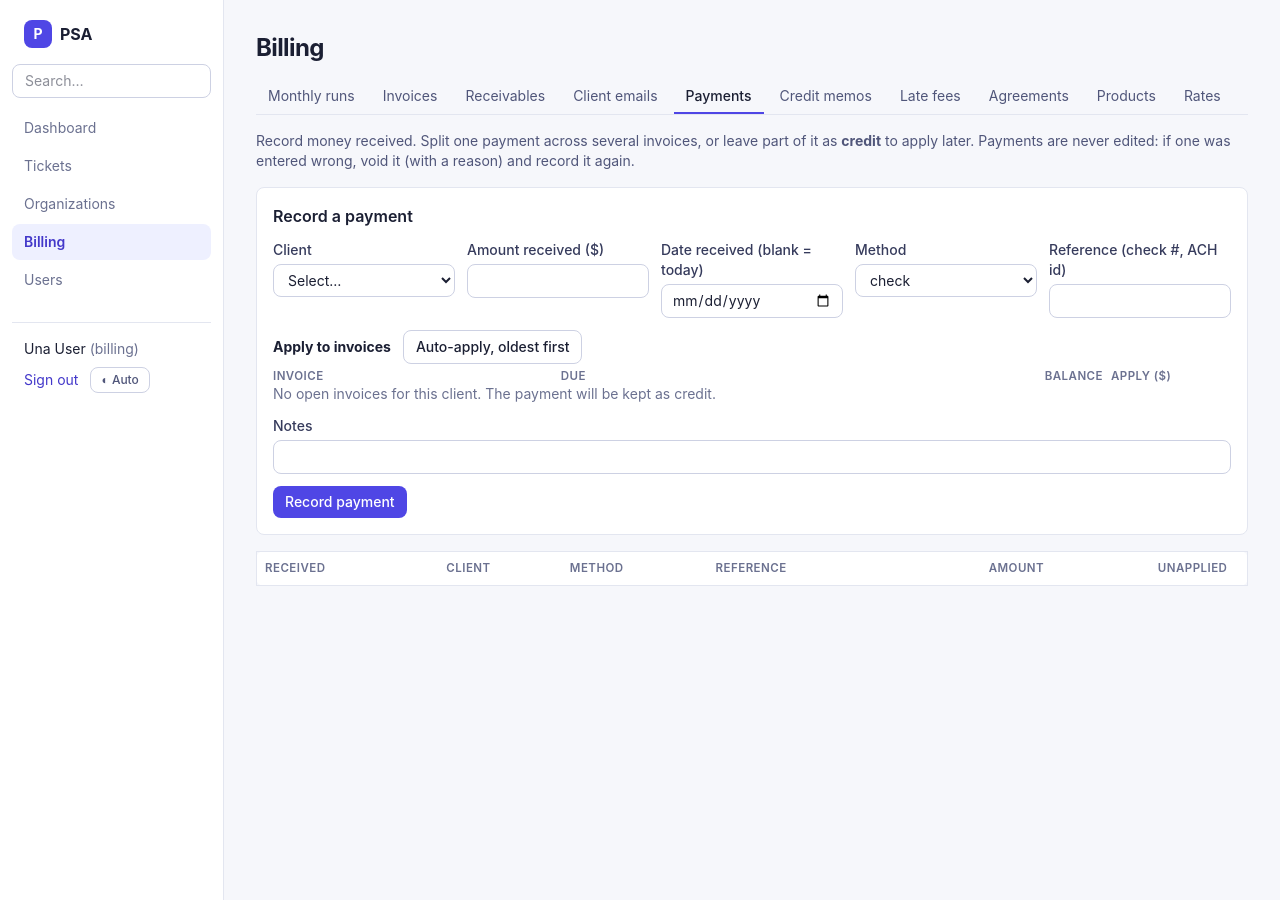
Test: record payment › warns when more is applied than was received
This screenshot has width=1280, height=900.
In the field labelled "Amount received ($)": (558, 281) [467,264,649,298], type "50.00"
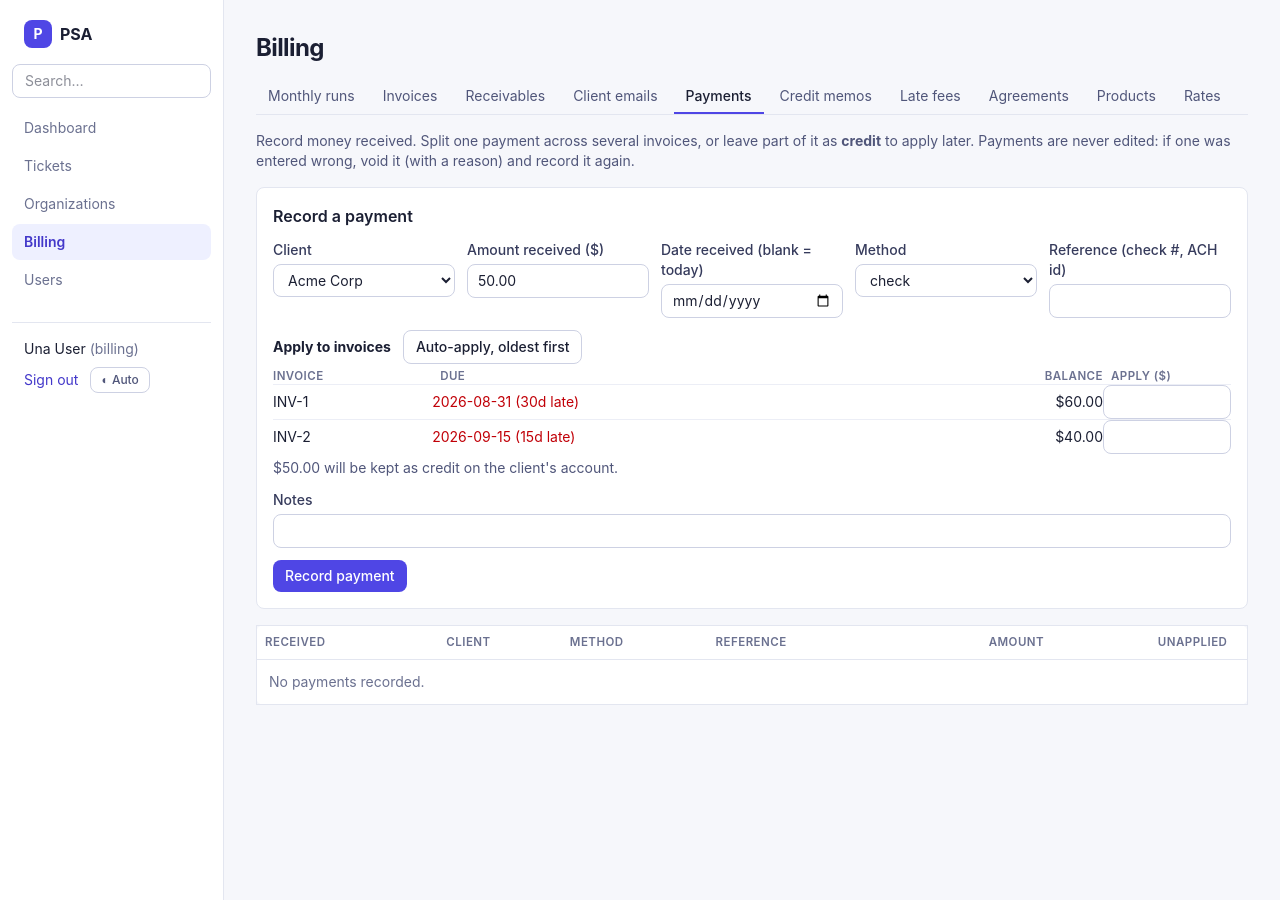
Result: the text "INV-1" is shown at [273,385,432,420]
In the field named "Apply to INV-1": (1167, 402) [1103,385,1231,419], type "60.00"
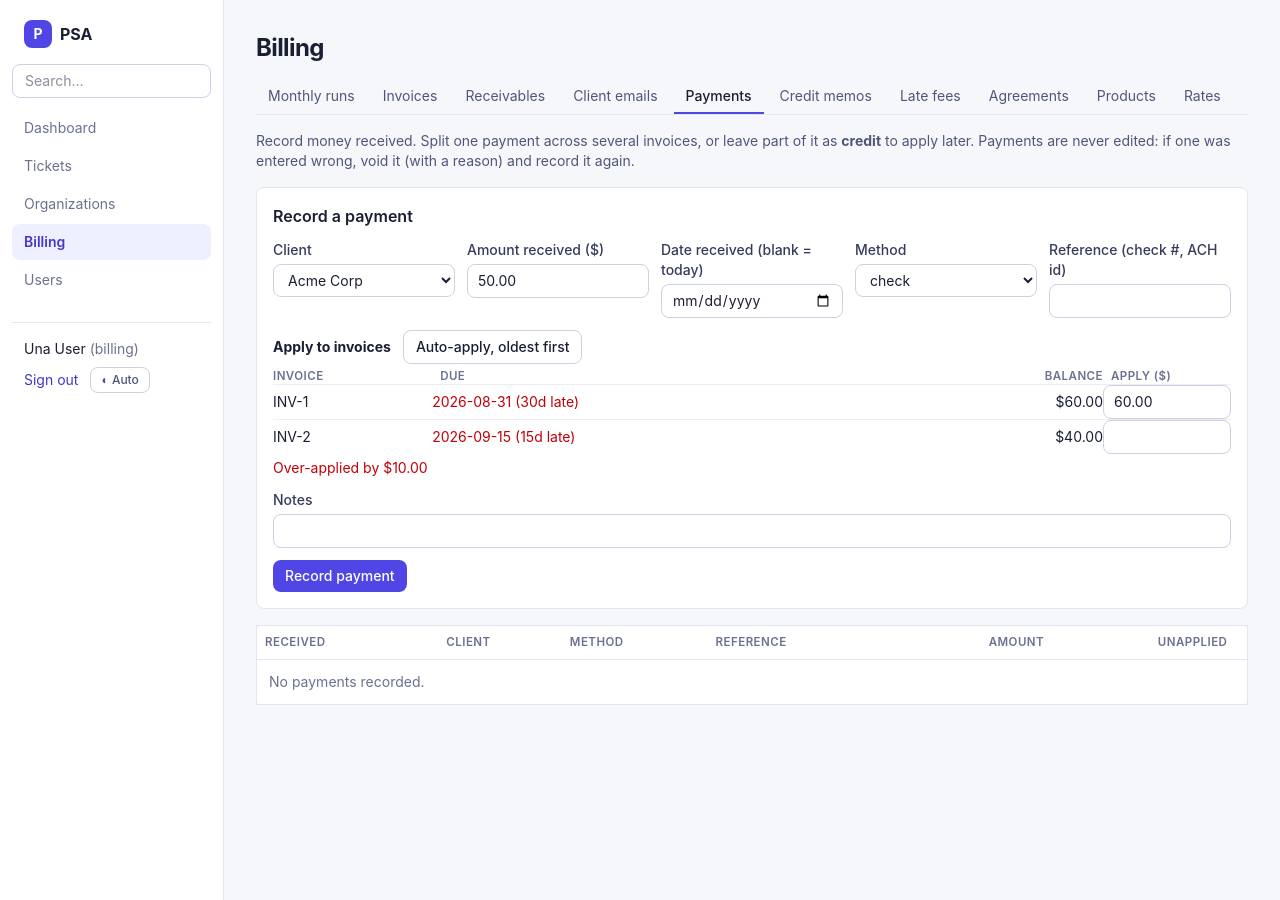
Result: the text "Over-applied by $10.00" is shown at [273,459,428,476]
